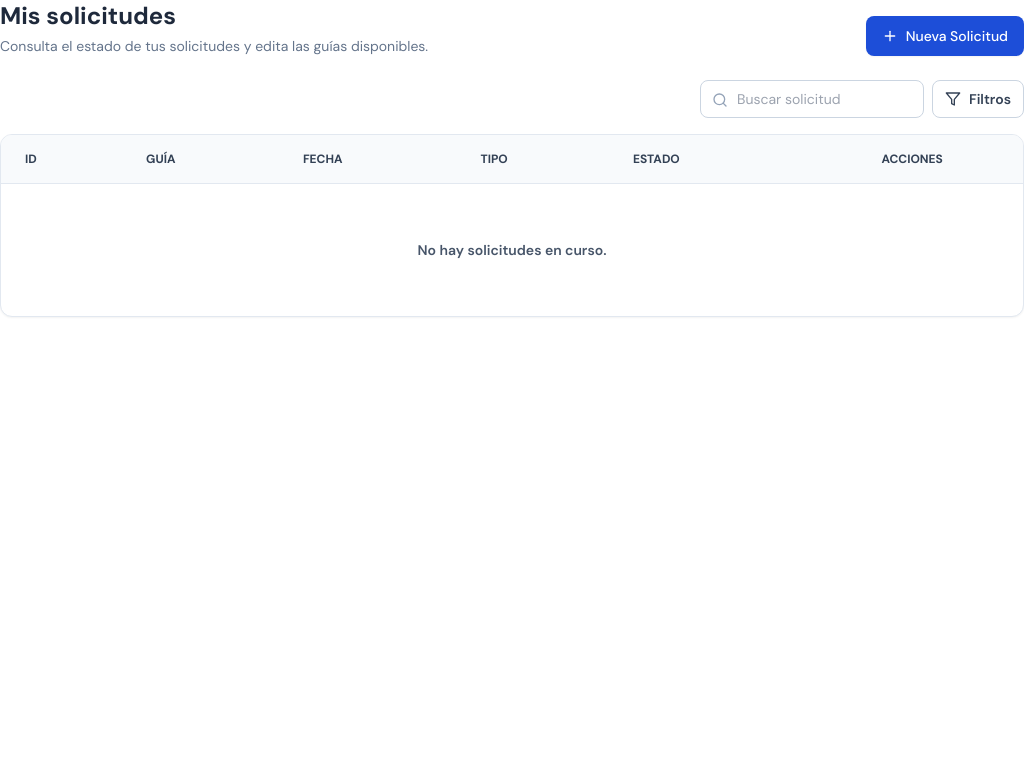
it: muestra los datos de cada guía seleccionada y los quita al retirarla
Later steps or results of the test are not shown.
Click the button "Nueva Solicitud" at point(945, 36), box [866, 16, 1023, 56]
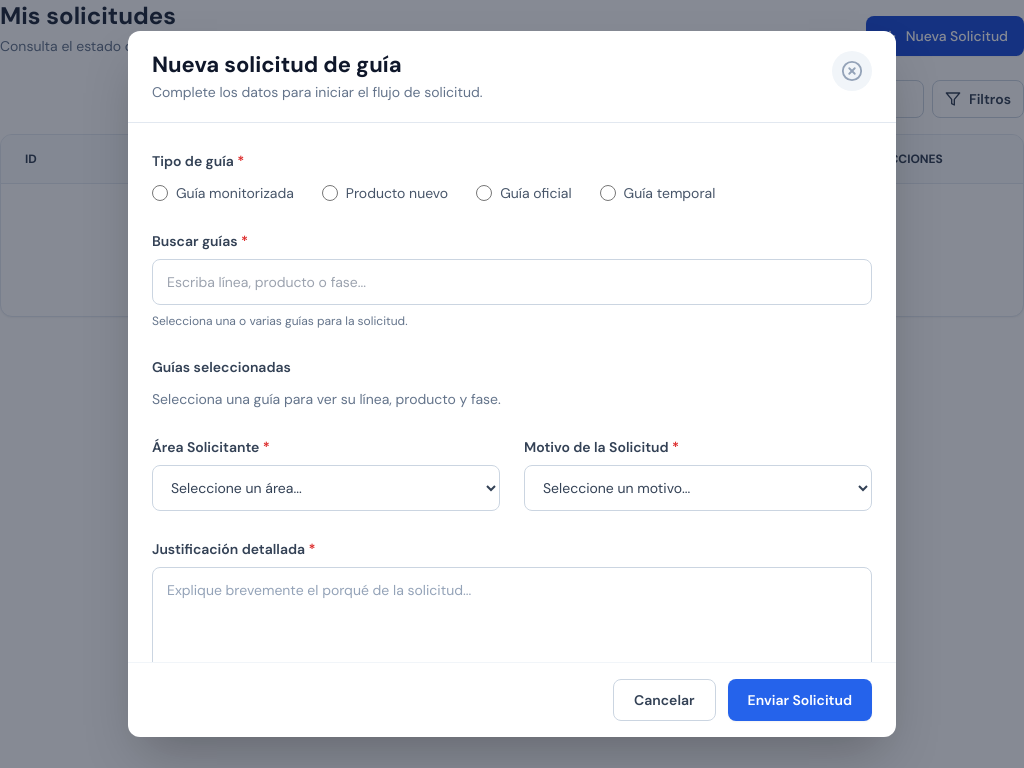
Click the radio button labelled "Guía oficial" at point(484, 193), box [476, 185, 492, 201]
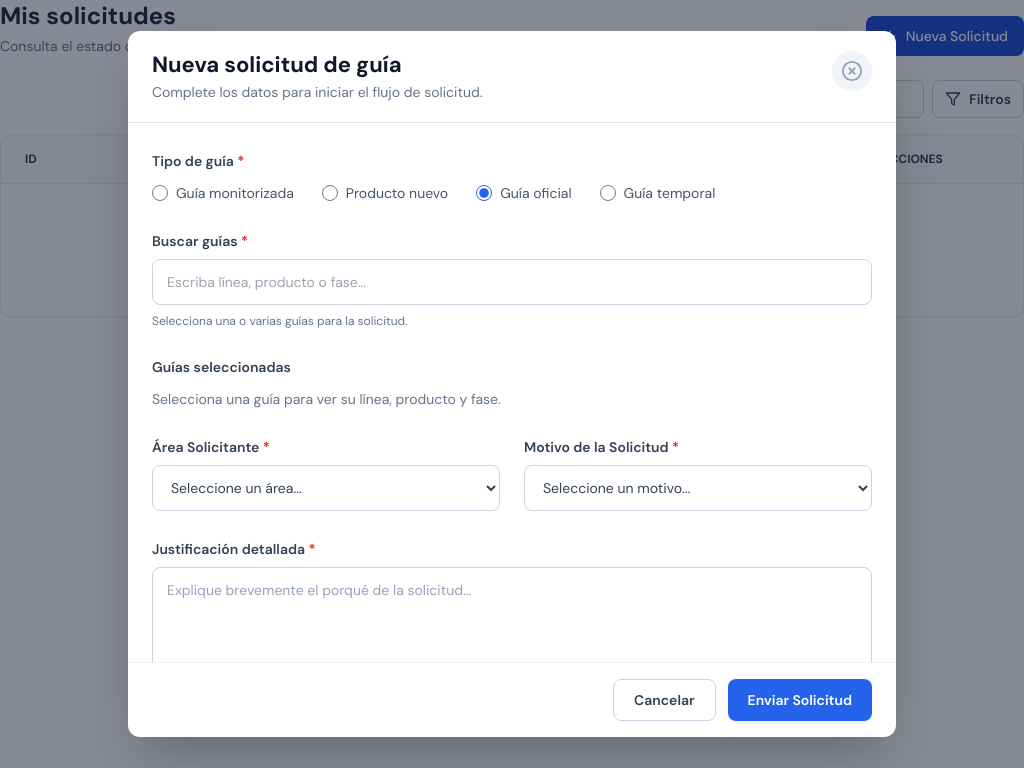
Type "Proteggo" into the field with id "combo-search" at point(512, 282), box [152, 259, 872, 305]
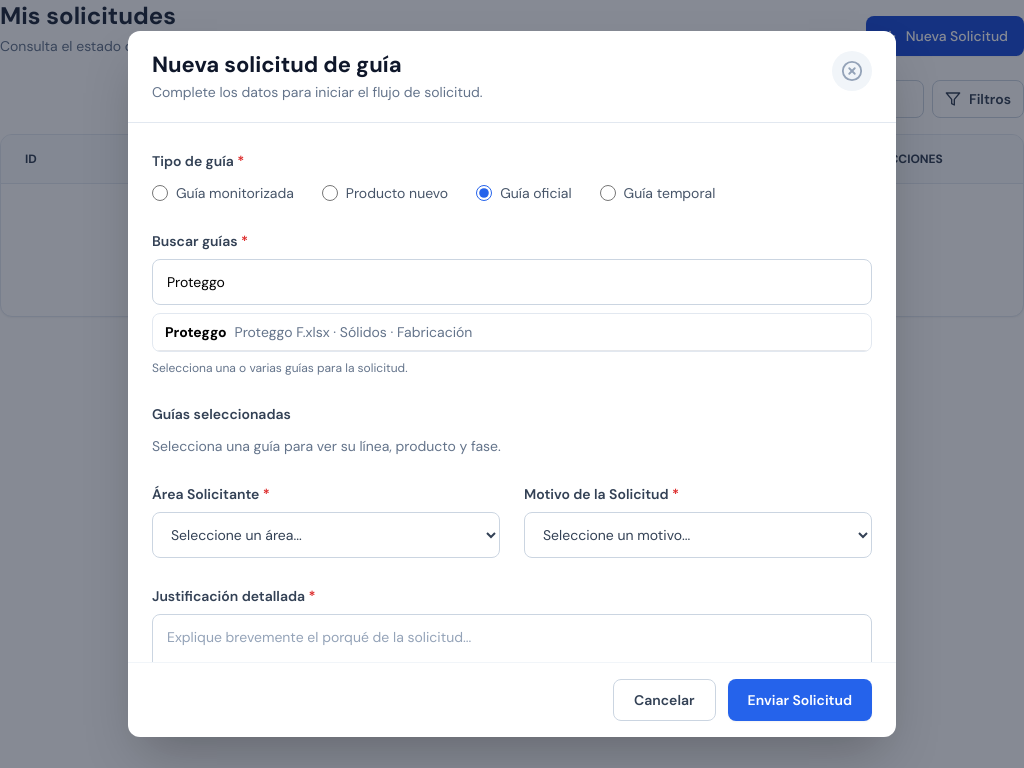
Click the button that starts with "Proteggo" at point(196, 332), box [153, 314, 871, 351]
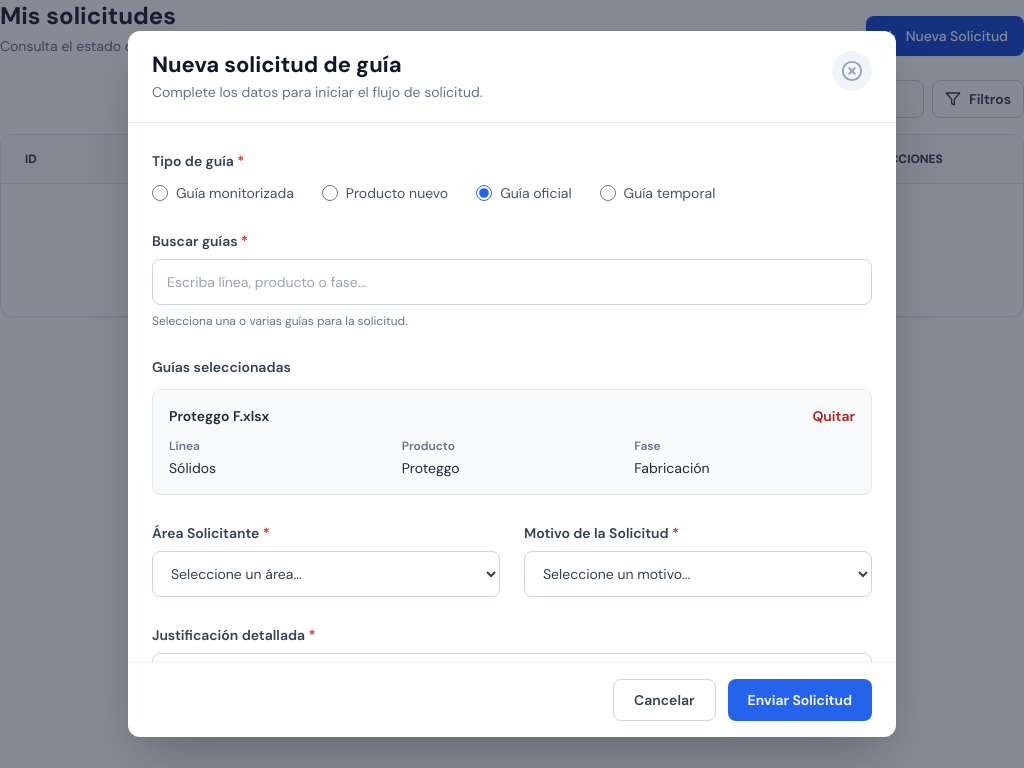
Type "Otro" into the field with id "combo-search" at point(512, 282), box [152, 259, 872, 305]
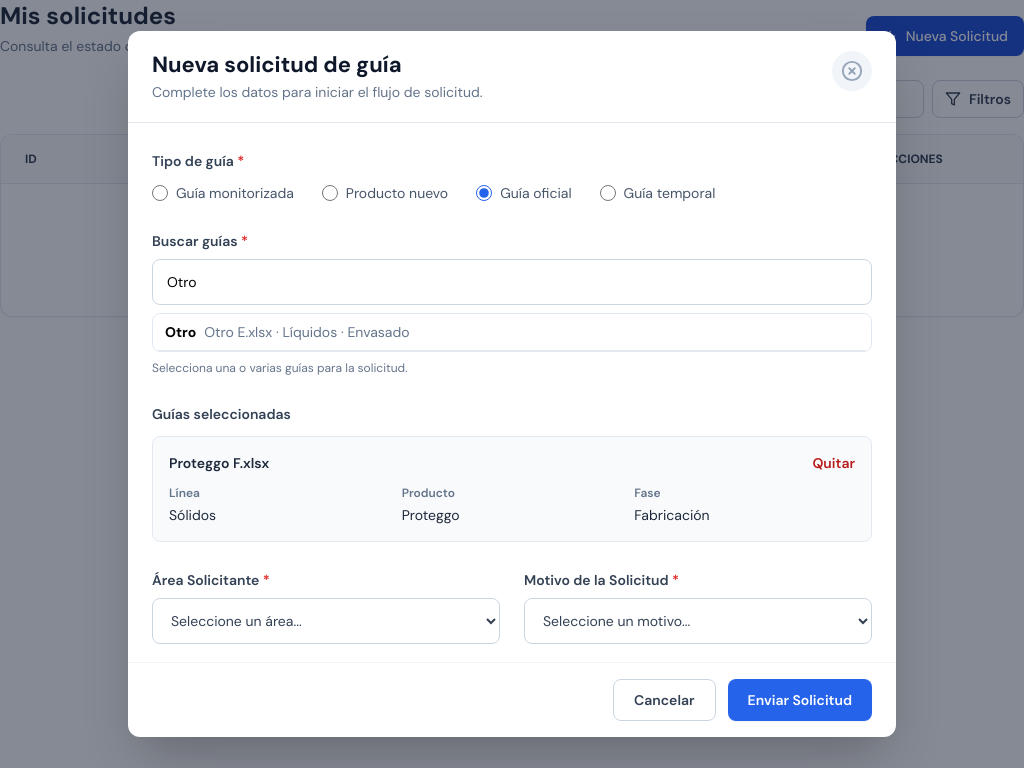
Click the button that starts with "Otro" at point(181, 332), box [153, 314, 871, 351]
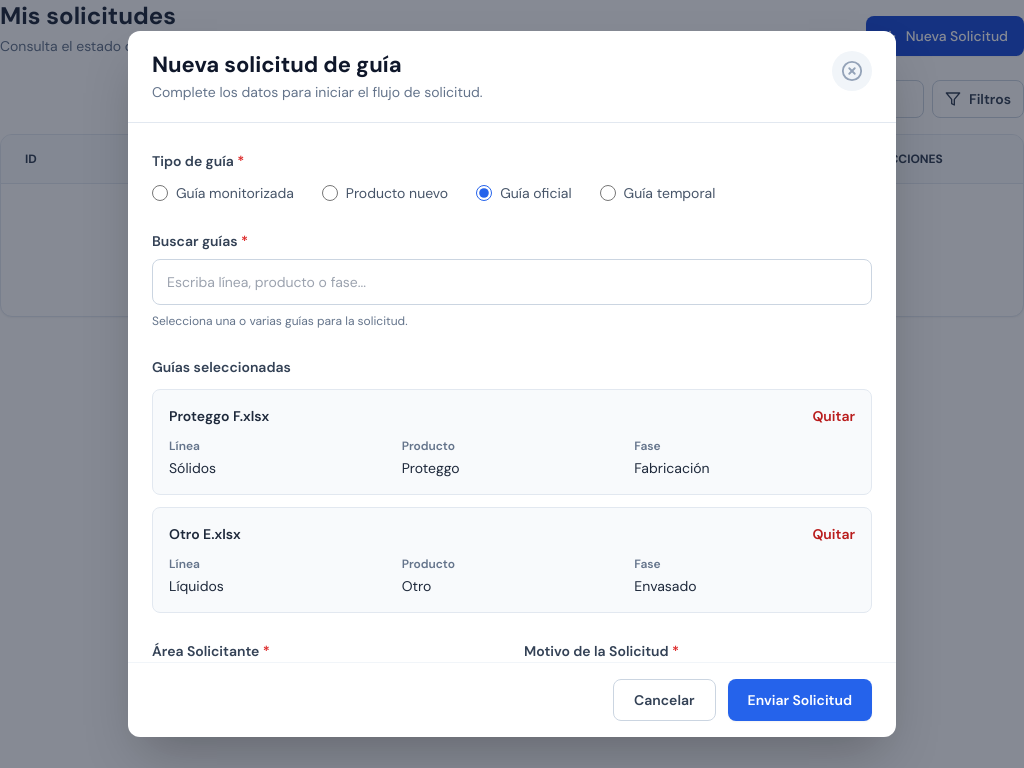
Now the element named "Guías seleccionadas" shows "Sólidos", box [169, 459, 216, 477]
Now the element named "Guías seleccionadas" shows "Fabricación", box [634, 459, 710, 477]
Now the element named "Guías seleccionadas" shows "Líquidos", box [169, 577, 224, 595]
